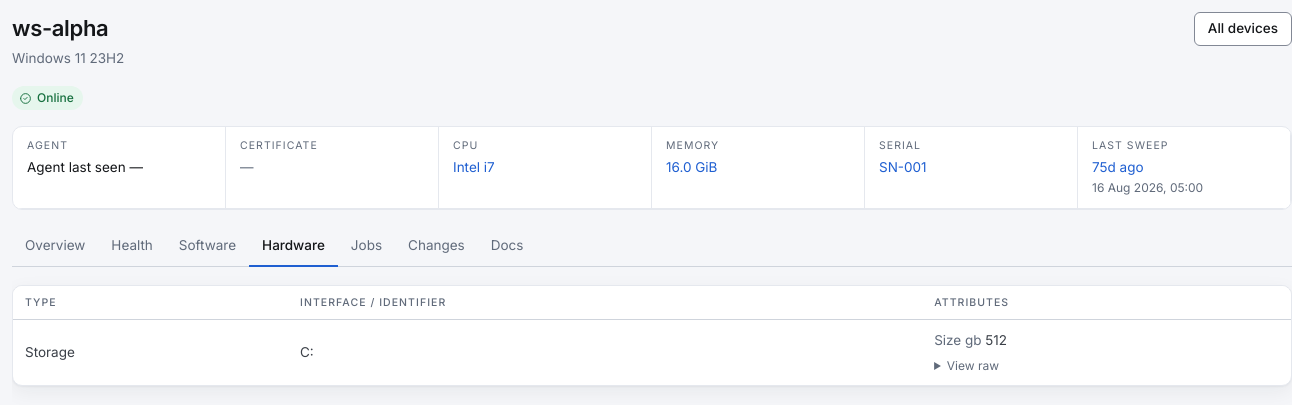
Test: times are read in the profile's zone › renders changes and jobs in that same zone
This screenshot has width=1292, height=405.
expect the heading "ws-alpha" is shown: met, box [12,12,124,45]
Click the tab "Changes".
click(436, 246)  # box [395,226,478,267]
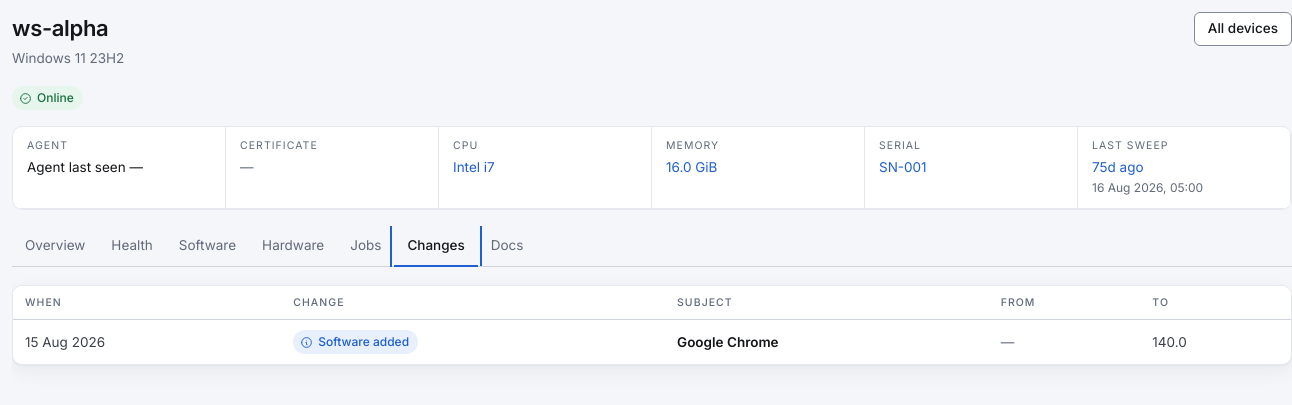
expect the text titled "15 Aug 2026, 22:30" is shown: met, box [25,334,105,350]
Click the tab "Jobs".
click(366, 246)  # box [337,226,394,267]
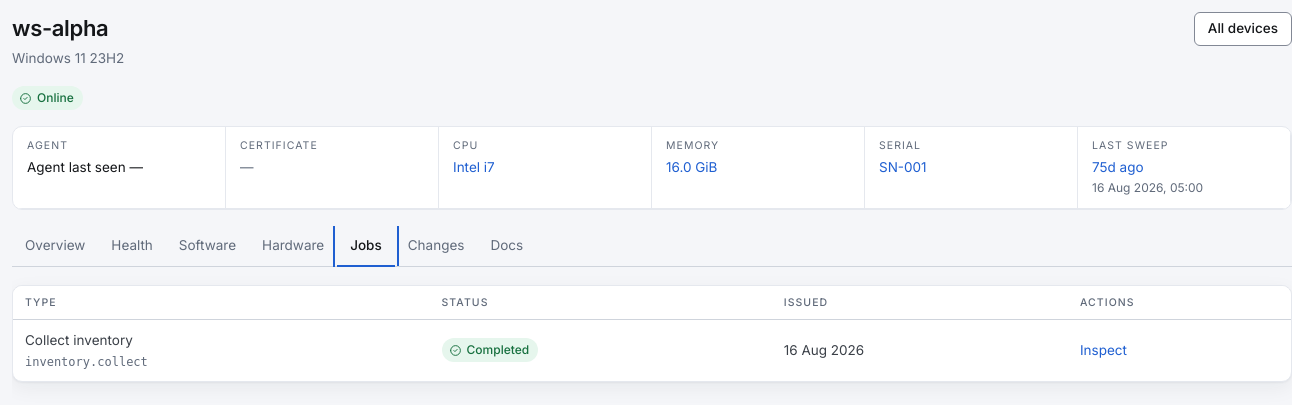
expect the text titled "16 Aug 2026, 09:45" is shown: met, box [784,340,864,361]
